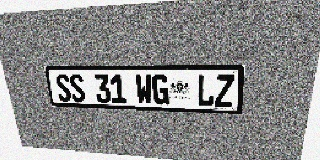1: (109, 74, 126, 104)
3: (94, 74, 111, 103)
G: (152, 74, 169, 105)
L: (196, 74, 215, 107)
S: (54, 74, 72, 102), (68, 74, 86, 102)
W: (135, 74, 152, 104)
Z: (214, 74, 235, 107)
